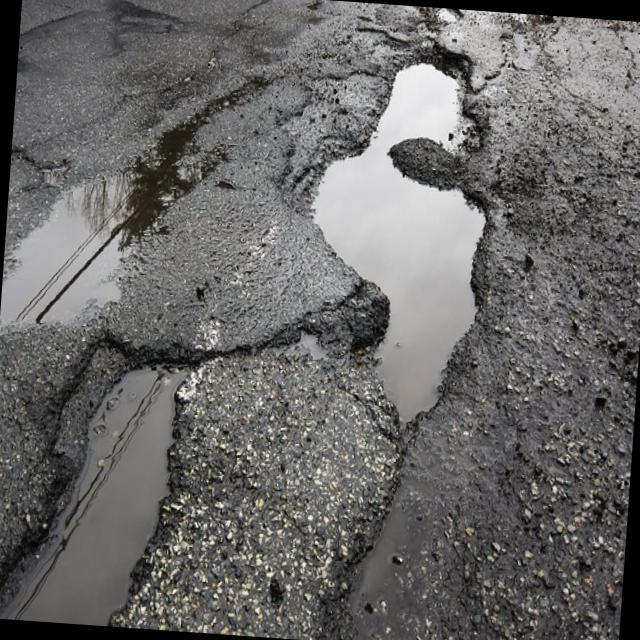Pothole: (274, 29, 530, 640), (0, 327, 261, 635)
